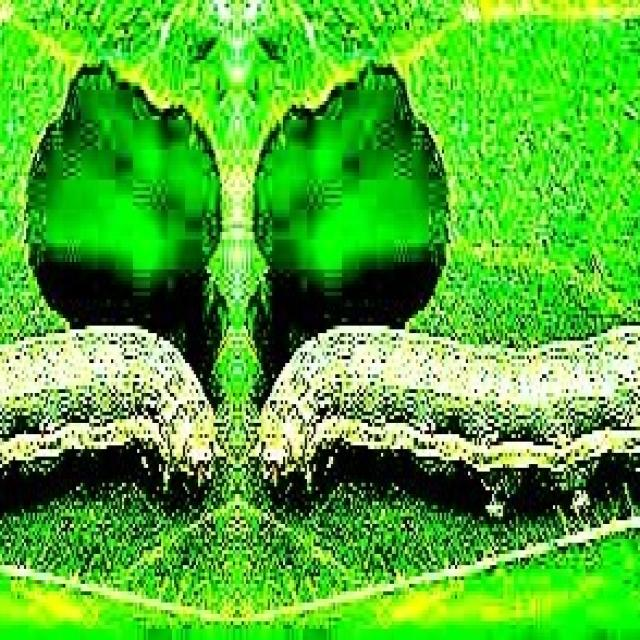Armyworm: (234, 296, 640, 640), (2, 319, 217, 564)
